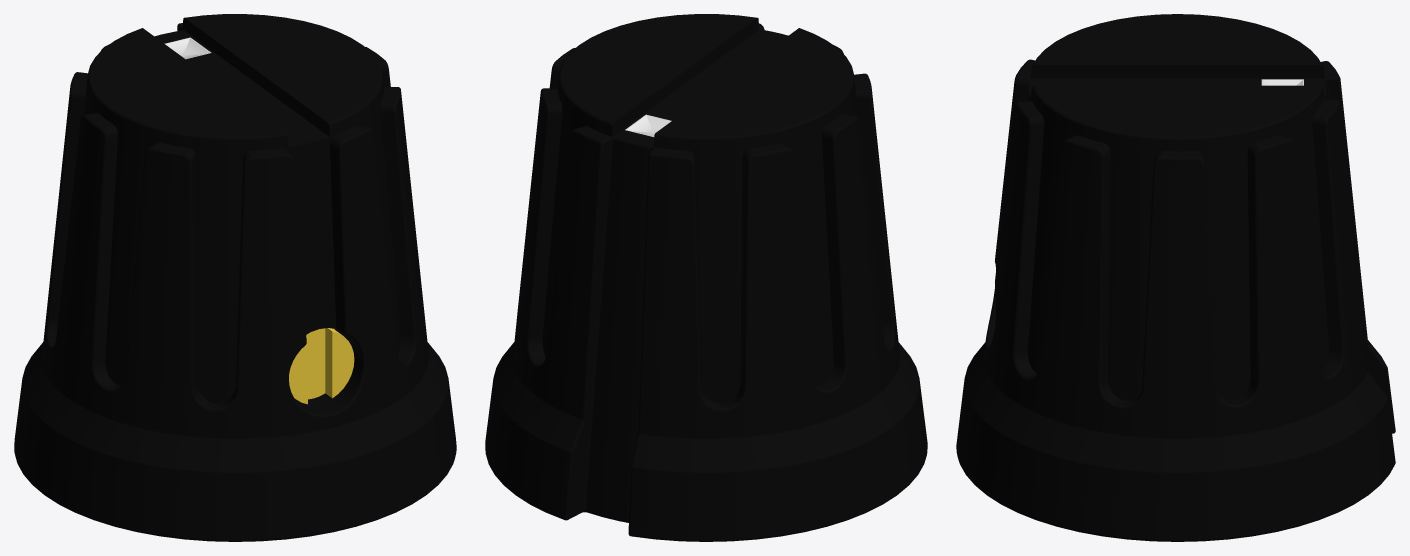
The model's file is knob_KN8F_6.35mm_shaft.glb.
3 renders of one model, left to right at view 1: azimuth 30°, elevation 25°; view 2: azimuth 150°, elevation 25°; view 3: azimuth 270°, elevation 25°, orthographic.
Visible parts, largest first — view 1: Solid1, Solid3, Solid2; view 2: Solid1, Solid2; view 3: Solid1.
Boxes of the visible parts, x1,y1,x2,y2 form: Solid1: (14, 14, 456, 541); Solid3: (289, 328, 354, 404); Solid2: (164, 37, 211, 59); Solid1: (485, 14, 927, 541); Solid2: (625, 114, 671, 136); Solid1: (956, 14, 1395, 541).
Size of the model in its own units: 0.0157 by 0.0146 by 0.0156.
